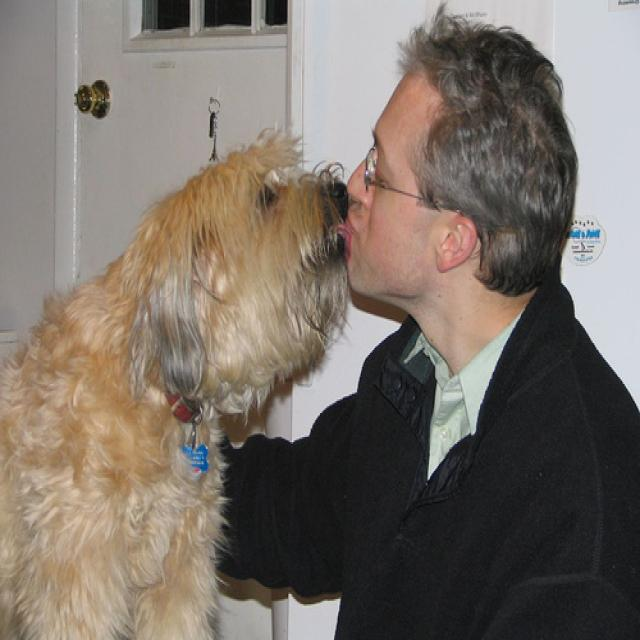dog-wheaten_terrier: (1, 133, 355, 637)
